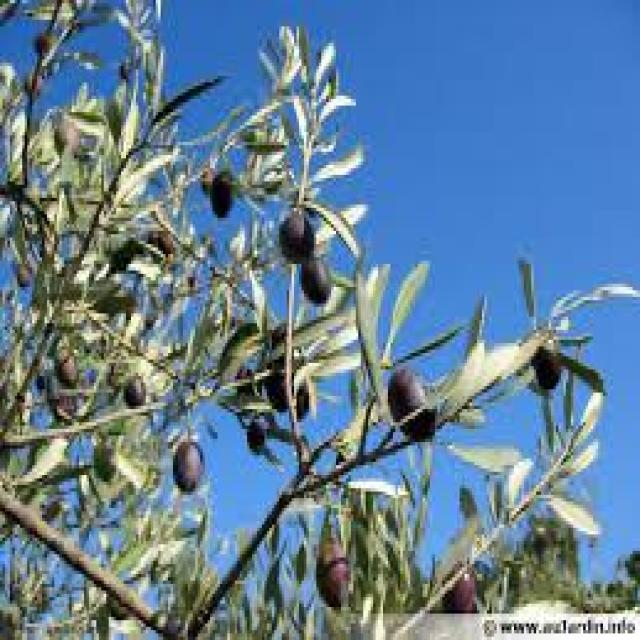Healthy: (279, 211, 331, 308), (172, 435, 203, 492)
